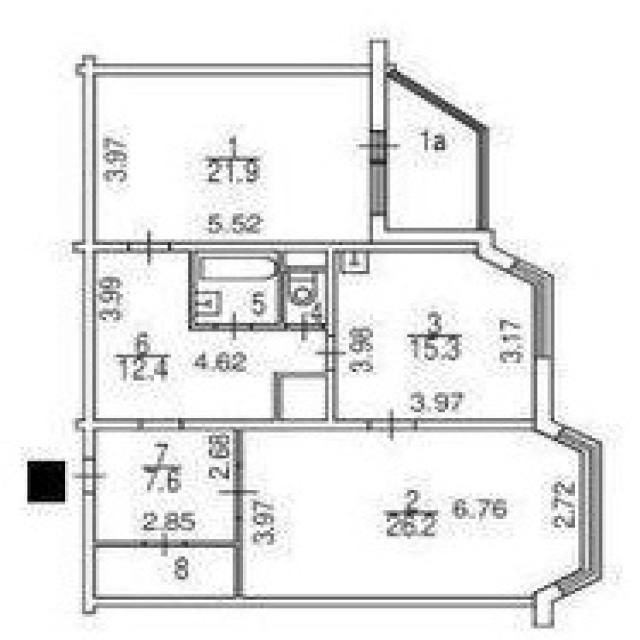Bathrooms: (201, 255, 275, 320), (287, 255, 323, 322)
Corridors: (98, 254, 323, 416), (99, 432, 231, 538), (391, 85, 475, 227), (97, 549, 230, 595)
Doors: (214, 471, 261, 518), (368, 405, 419, 443), (127, 225, 170, 267), (356, 131, 403, 162), (138, 531, 187, 559), (311, 336, 347, 371), (214, 311, 253, 343), (71, 460, 109, 492), (286, 311, 324, 342)
LBwalls: (370, 217, 518, 273), (530, 359, 564, 441), (368, 39, 391, 130), (531, 583, 564, 629)
Offices: (245, 431, 576, 595), (99, 78, 368, 240), (340, 254, 530, 417)
Walls: (70, 53, 369, 460), (82, 491, 531, 615), (170, 241, 477, 335), (393, 62, 492, 227), (416, 417, 531, 433), (231, 431, 244, 471)
Windows: (552, 424, 603, 600), (509, 258, 555, 359), (370, 162, 390, 217)
